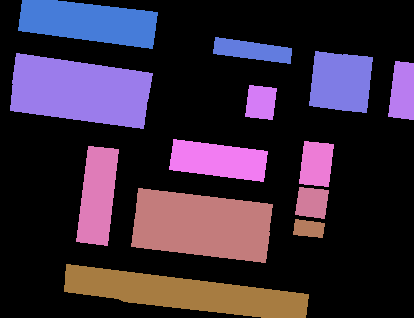parkingspot: (64, 264, 308, 318), (12, 53, 152, 101), (18, 0, 157, 48), (10, 80, 147, 128), (131, 215, 269, 262), (135, 188, 272, 234), (76, 146, 118, 245), (169, 139, 267, 181), (309, 51, 345, 109), (337, 54, 372, 112), (213, 37, 291, 63), (299, 141, 333, 186), (388, 61, 414, 119), (245, 85, 276, 119), (295, 187, 328, 218), (293, 219, 324, 237)
